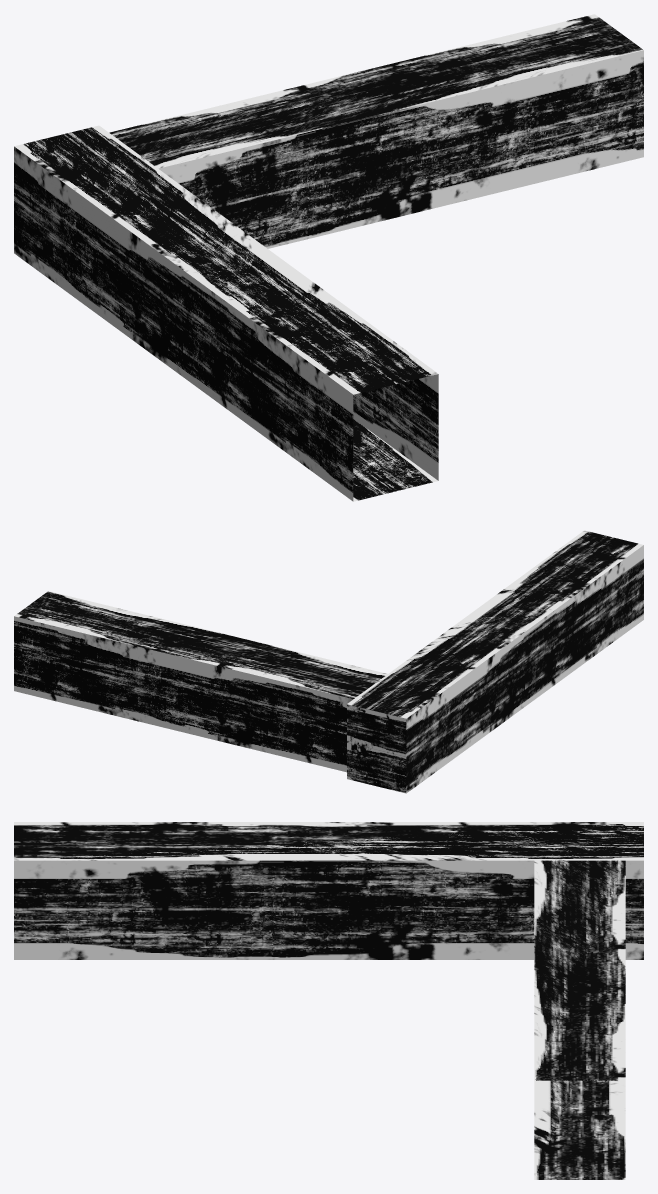
The model's file is SM_wall_A_element_corner_01.fbx.
The picture shows the model from 3 angles, top to bottom: view 1: azimuth 30°, elevation 25°; view 2: azimuth 150°, elevation 25°; view 3: azimuth 270°, elevation 25°; orthographic projection. The views are drawn at different scales.
Visible parts, largest first — view 1: SM_wall_A_element_corner_01_LOD0; view 2: SM_wall_A_element_corner_01_LOD0; view 3: SM_wall_A_element_corner_01_LOD0.
Boxes of the visible parts, x1=… form: SM_wall_A_element_corner_01_LOD0: x1=14, y1=14, x2=643, y2=501; SM_wall_A_element_corner_01_LOD0: x1=14, y1=530, x2=643, y2=793; SM_wall_A_element_corner_01_LOD0: x1=14, y1=822, x2=643, y2=1179.
Size of the model in its own units: 335 by 345 by 60.
Materials: 2 (2 with a texture image).
